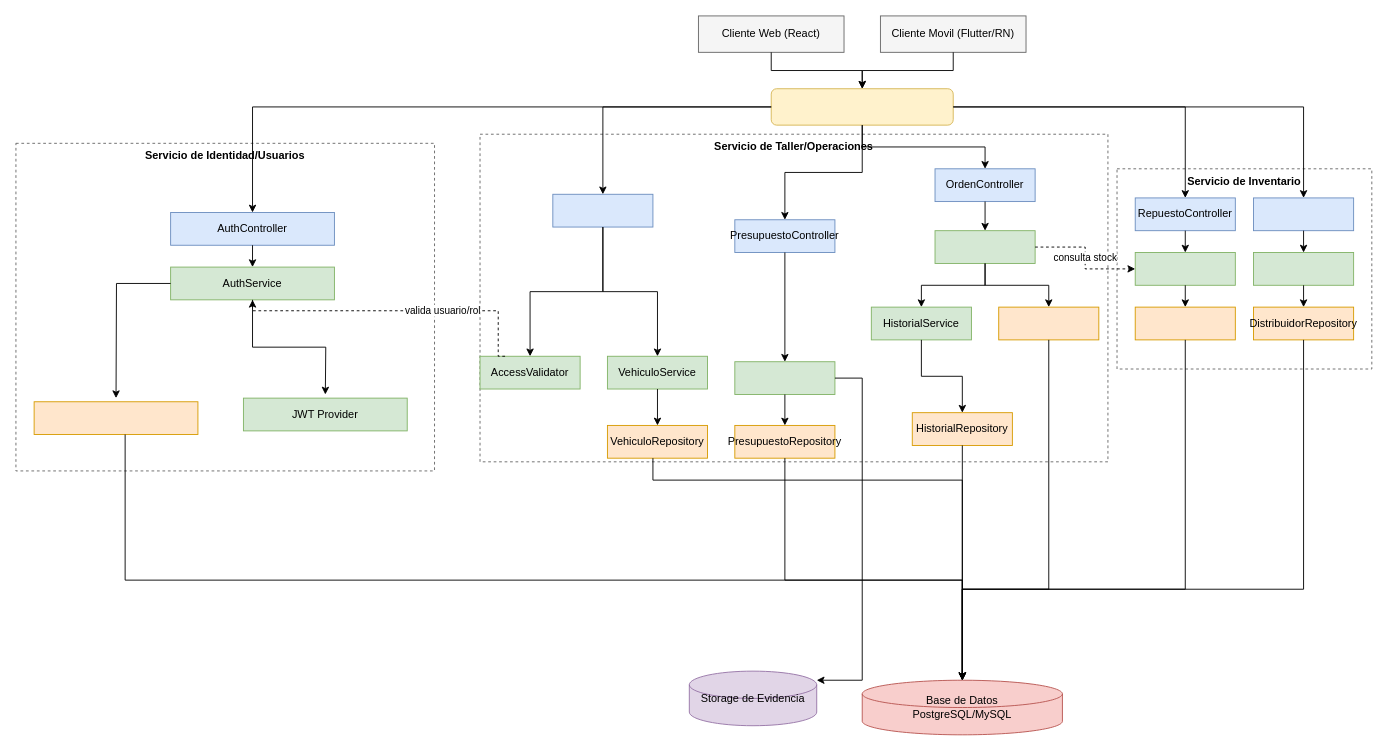
Some shapes in this 1388 by 751 pixel diagram are drawn without their labels. The centre of each missing label's shape, as x and y in pixels:
"API Gateway" goes at point (861, 106).
"DistribuidorController" goes at point (1303, 214).
"DistribuidorService" goes at point (1303, 268).
"OrdenRepository" goes at point (1048, 323).
"OrdenService" goes at point (984, 246).
"PresupuestoService" goes at point (784, 377).
"RepuestoRepository" goes at point (1184, 323).
"RepuestoService" goes at point (1184, 268).
"UserRepository" goes at point (115, 418).
"VehiculoController" goes at point (602, 210).
